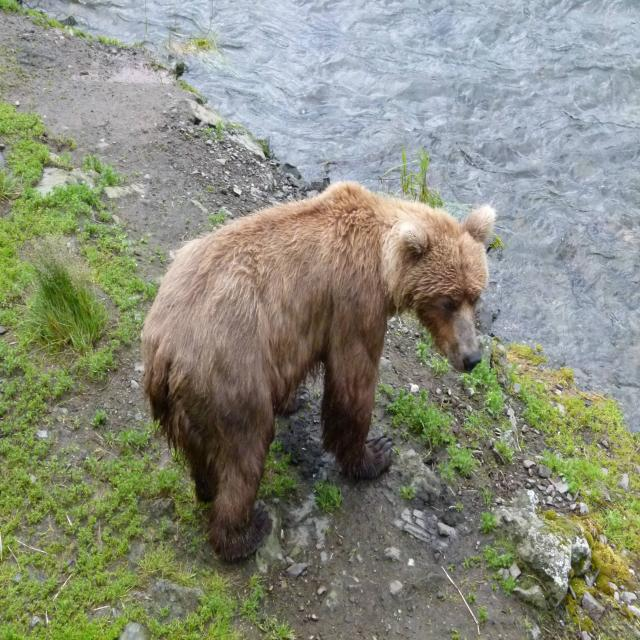bear face: (141, 182, 497, 561)
